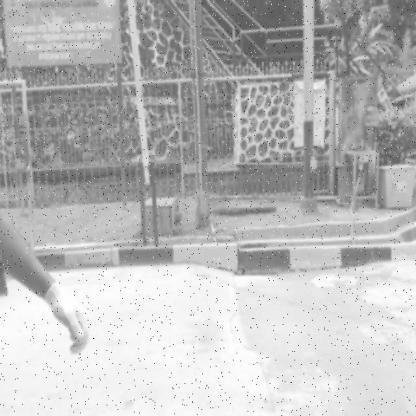gloves: (42, 275, 96, 356)
